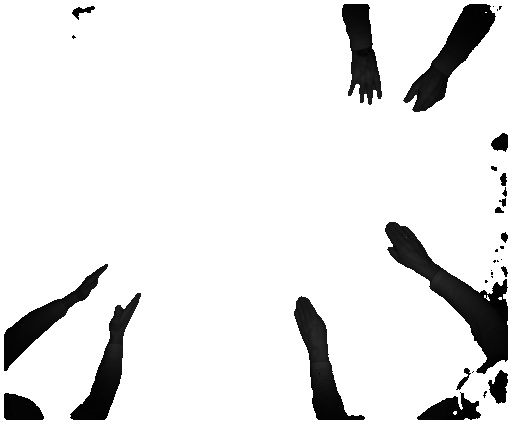hand: (384, 216, 432, 276), (288, 296, 331, 353), (344, 58, 383, 111), (400, 72, 450, 111)
spine: (71, 264, 114, 306), (111, 292, 143, 344)
